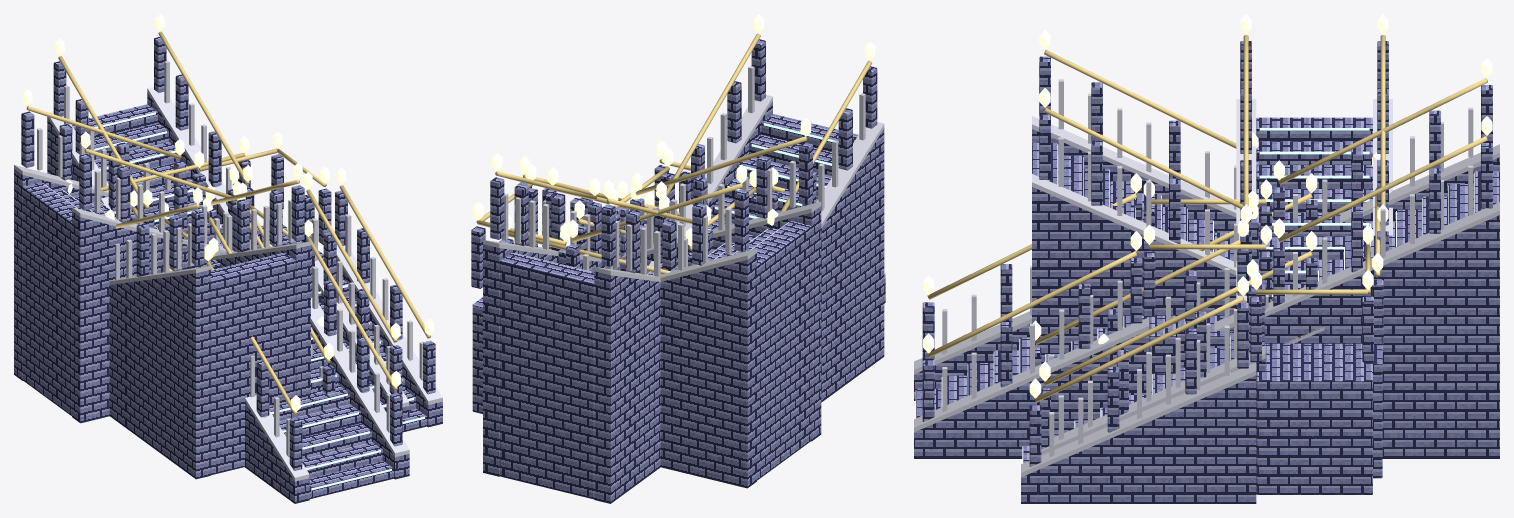
File: ST20-fantasy.glb
The picture shows the model from 3 angles, left to right: view 1: azimuth 30°, elevation 25°; view 2: azimuth 150°, elevation 25°; view 3: azimuth 270°, elevation 25°; orthographic projection. The views are drawn at different scales.
Parts seen in each view (by area): view 1: stair__ST20__U__fantasy, stair__ST20__L__fantasy, stair__ST20__straight-landing__fantasy, stair__ST20__straight__fantasy; view 2: stair__ST20__straight-landing__fantasy, stair__ST20__L__fantasy, stair__ST20__U__fantasy, stair__ST20__straight__fantasy; view 3: stair__ST20__straight-landing__fantasy, stair__ST20__L__fantasy, stair__ST20__U__fantasy, stair__ST20__straight__fantasy.
Part boxes in pixels (x1,y1,x2,y2): stair__ST20__U__fantasy: (66,136,409,479); stair__ST20__L__fantasy: (14,89,442,432); stair__ST20__straight-landing__fantasy: (47,14,409,503); stair__ST20__straight__fantasy: (129,165,323,326); stair__ST20__straight-landing__fantasy: (483,140,885,503); stair__ST20__L__fantasy: (471,118,821,488); stair__ST20__U__fantasy: (499,14,884,402); stair__ST20__straight__fantasy: (574,200,694,266); stair__ST20__straight-landing__fantasy: (914,58,1499,458); stair__ST20__L__fantasy: (1021,14,1392,503); stair__ST20__U__fantasy: (1032,30,1383,478); stair__ST20__straight__fantasy: (1098,173,1324,391).
Size of the model in its own units: 4.44 by 4.48 by 7.02.
5 materials, 1 textured.
